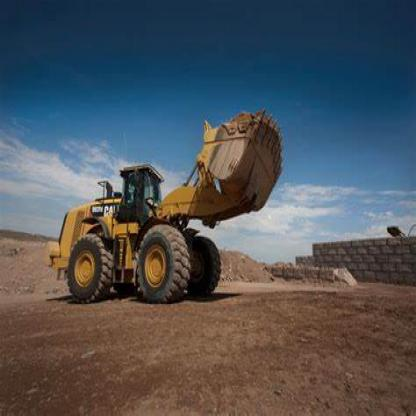bull_dozer/loader/grader: (51, 103, 288, 314)
